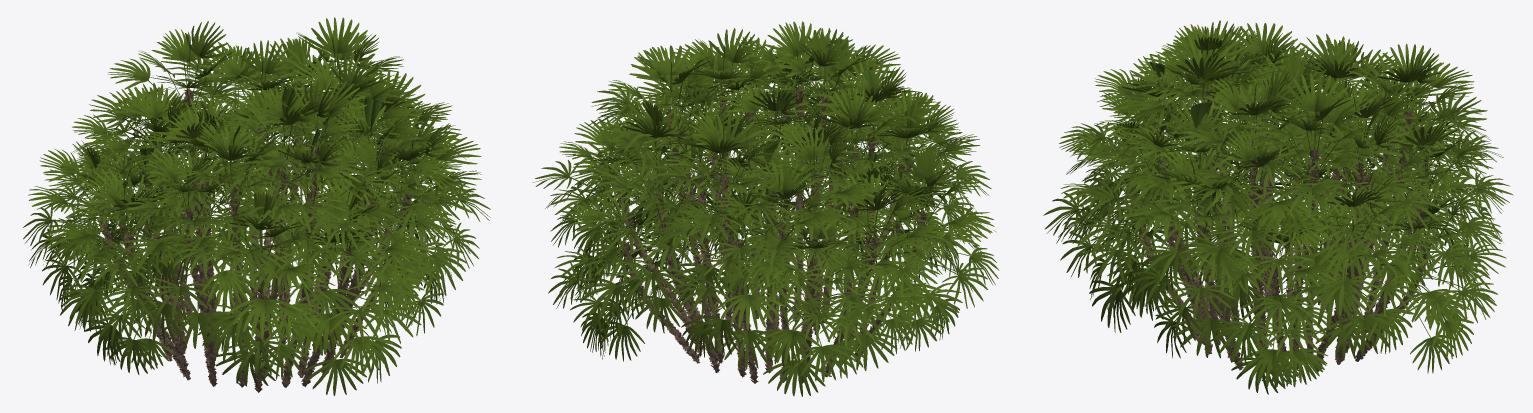
Rendered from Rhapis excelsa HD_Standard big group mat 100_LOD1.fbx.
The picture shows the model from 3 angles, left to right: view 1: azimuth 30°, elevation 25°; view 2: azimuth 150°, elevation 25°; view 3: azimuth 270°, elevation 25°; orthographic projection. The views are drawn at different scales.
Parts seen in each view (by area): view 1: Rhapis_excelsa_HD; view 2: Rhapis_excelsa_HD; view 3: Rhapis_excelsa_HD.
Part boxes in pixels (x1,y1,x2,y2): Rhapis_excelsa_HD: [23, 17, 490, 395]; Rhapis_excelsa_HD: [532, 21, 999, 396]; Rhapis_excelsa_HD: [1043, 20, 1513, 394].
Bounding box in the file's own units: 3.4 × 2.26 × 3.25.
11 materials, 11 textured.
